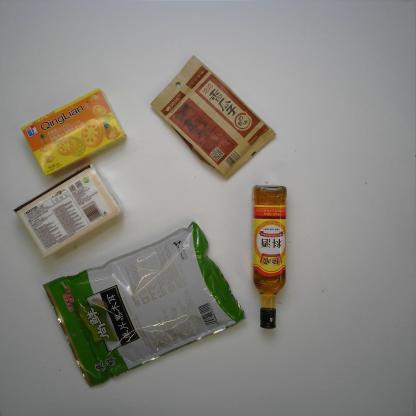Dessert: (19, 86, 128, 178)
Dried Food: (39, 218, 245, 389), (148, 53, 279, 181)
Seasoner: (250, 181, 288, 332)
Tissue: (12, 161, 126, 259)
